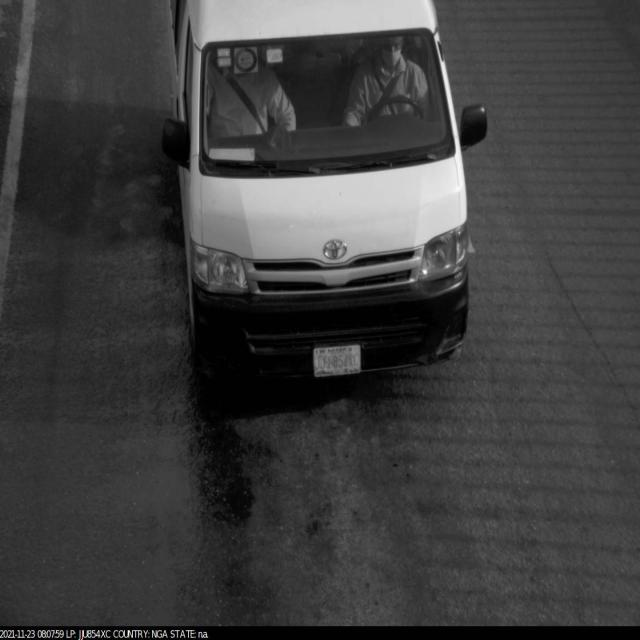windshield: (189, 22, 462, 188)
